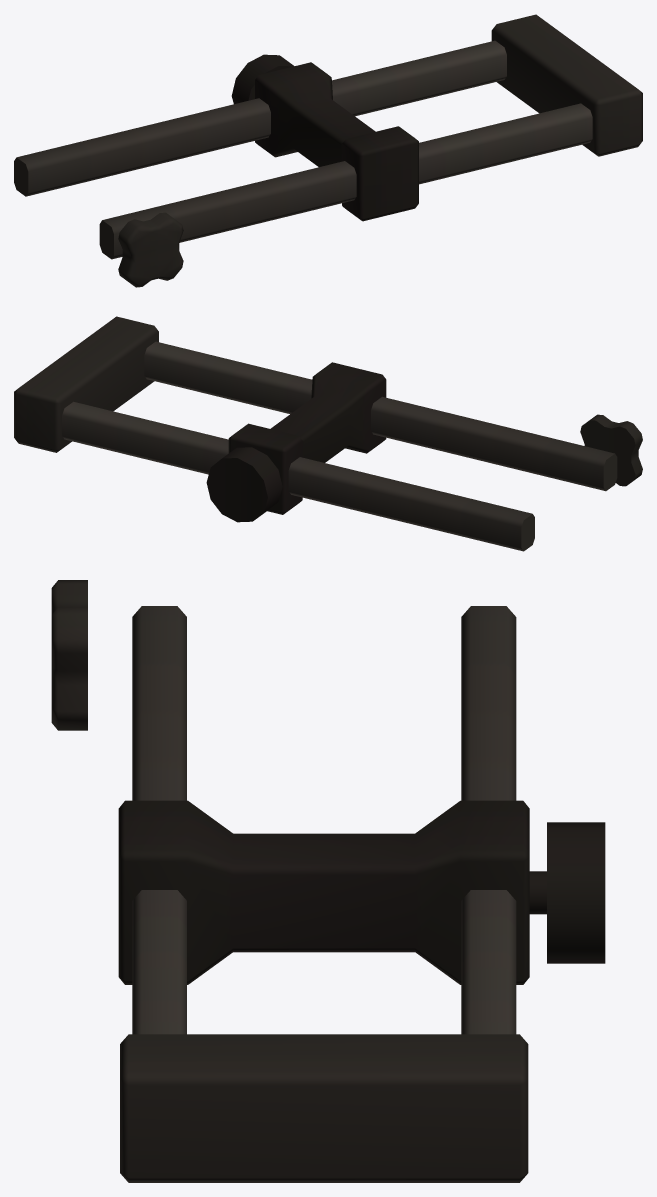
File: GL1_Sight_02.fbx
The picture shows the model from 3 angles, top to bottom: view 1: azimuth 30°, elevation 25°; view 2: azimuth 150°, elevation 25°; view 3: azimuth 270°, elevation 25°; orthographic projection. The views are drawn at different scales.
Visible parts, largest first — view 1: GL1_Sight_02; view 2: GL1_Sight_02; view 3: GL1_Sight_02.
Boxes of the visible parts, x1,y1,x2,y2 form: GL1_Sight_02: (14, 14, 642, 287); GL1_Sight_02: (14, 316, 642, 551); GL1_Sight_02: (51, 580, 605, 1182).
Size of the model in its own units: 19.48 by 2.45 by 9.1.
